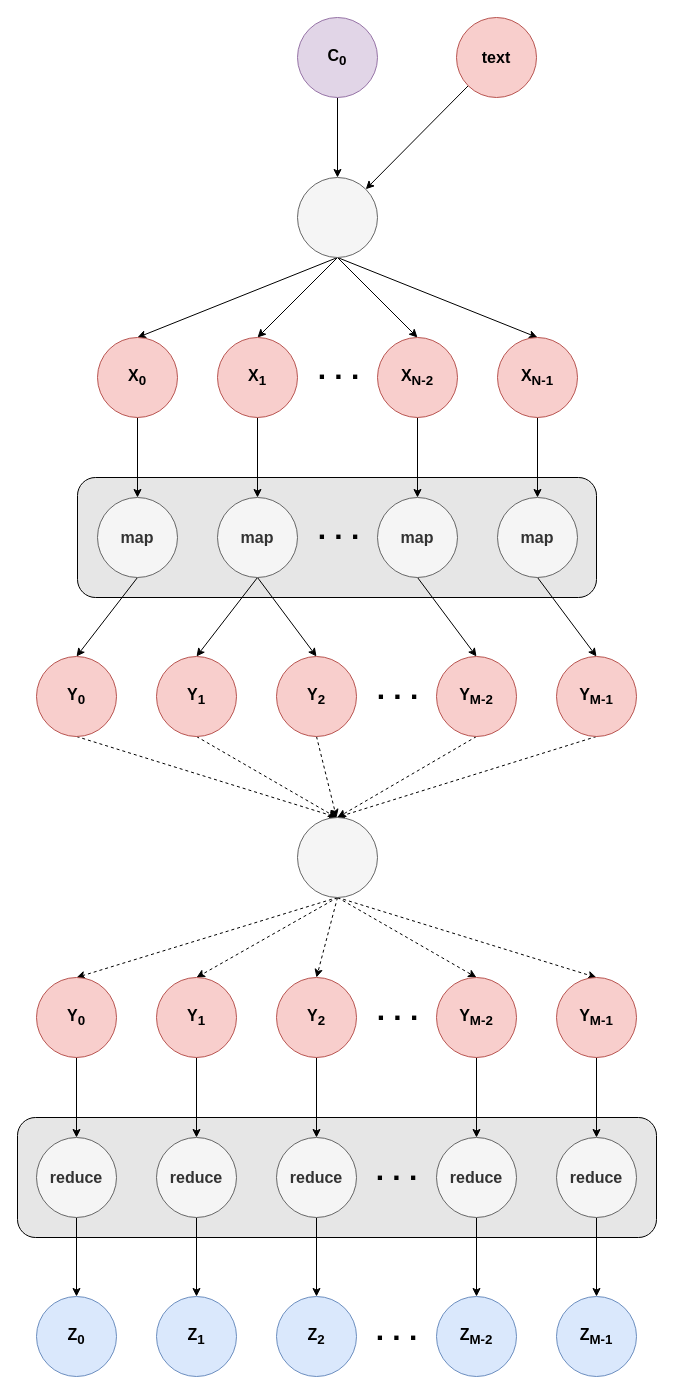
Some shapes in this 674 by 1394 pixel diagram are drawn without their labels. Each missing label, with the centre of its shape:
shuffle: pixel 337 857
split: pixel 337 217
